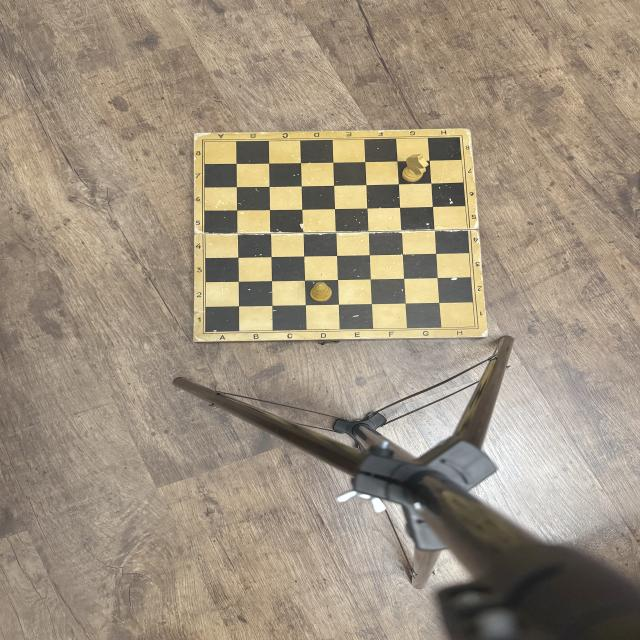white-bishop: (310, 282, 332, 302)
white-knight: (401, 154, 429, 183)
